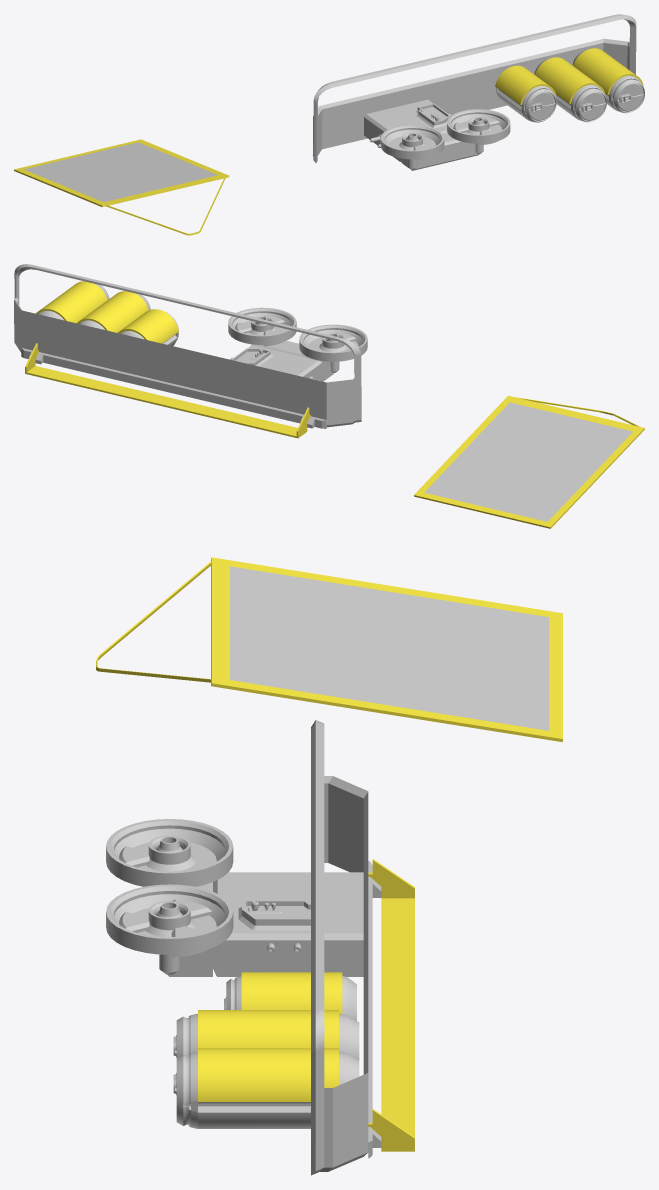
Rendered from lec_shelf.glb.
3 renders of one model, top to bottom at view 1: azimuth 30°, elevation 25°; view 2: azimuth 150°, elevation 25°; view 3: azimuth 270°, elevation 25°, orthographic. The views are drawn at different scales.
Parts seen in each view (by area): view 1: Body100, Body91, Body99, Body102, Body106, Body104, Body103, Body101, Body89, Body107; view 2: Body100, Body99, Body91, Body102, Body108, Body104, Body106, Body107; view 3: Body99, Body91, Body100, Body102, Body108, Body104, Body89, Body106, Body107, Body101, Body103.
Part boxes in pixels (x1=…): Body100: x1=312, y1=14, x2=636, y2=163; Body91: x1=364, y1=99, x2=510, y2=170; Body99: x1=24, y1=142, x2=217, y2=202; Body102: x1=14, y1=139, x2=229, y2=235; Body106: x1=535, y1=57, x2=605, y2=103; Body104: x1=573, y1=48, x2=643, y2=94; Body103: x1=496, y1=86, x2=556, y2=122; Body101: x1=534, y1=60, x2=606, y2=122; Body89: x1=572, y1=51, x2=644, y2=113; Body107: x1=495, y1=65, x2=556, y2=104; Body100: x1=14, y1=264, x2=361, y2=428; Body99: x1=424, y1=402, x2=632, y2=521; Body91: x1=228, y1=307, x2=367, y2=381; Body102: x1=414, y1=395, x2=644, y2=528; Body108: x1=25, y1=343, x2=310, y2=438; Body104: x1=36, y1=281, x2=107, y2=323; Body106: x1=77, y1=291, x2=148, y2=332; Body107: x1=118, y1=309, x2=178, y2=343; Body99: x1=230, y1=566, x2=549, y2=730; Body91: x1=106, y1=819, x2=363, y2=976; Body100: x1=311, y1=720, x2=381, y2=1175; Body102: x1=96, y1=557, x2=562, y2=742; Body108: x1=368, y1=859, x2=414, y2=1151; Body104: x1=198, y1=1048, x2=338, y2=1101; Body89: x1=173, y1=1051, x2=359, y2=1128; Body106: x1=198, y1=1010, x2=338, y2=1047; Body107: x1=241, y1=972, x2=342, y2=1013; Body101: x1=173, y1=1013, x2=359, y2=1059; Body103: x1=224, y1=976, x2=356, y2=1020.
Bounding box in the file's own units: 0.0734 × 0.0101 × 0.0265.
